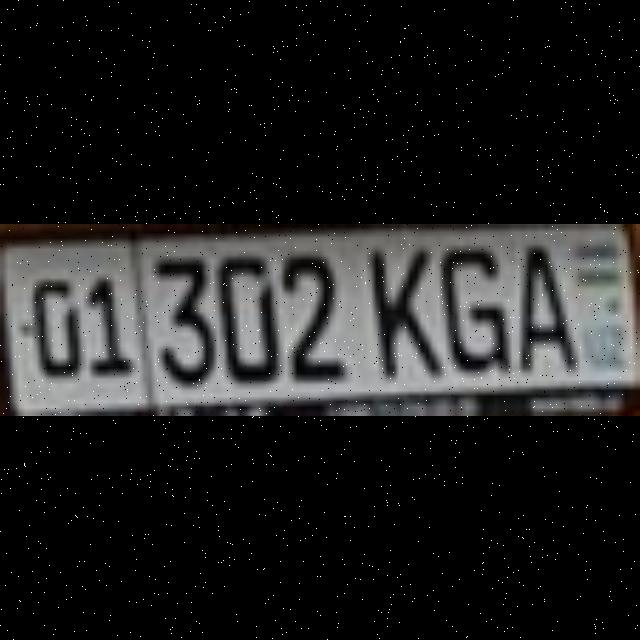0: (215, 246, 272, 372), (28, 269, 74, 365)
1: (80, 269, 124, 365)
2: (278, 246, 340, 372)
3: (147, 247, 209, 377)
A: (516, 236, 572, 360)
G: (436, 240, 498, 366)
K: (362, 241, 436, 371)
